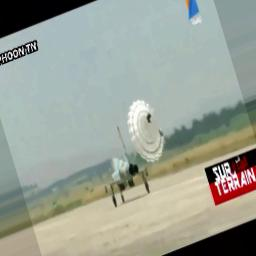Airplane: (101, 126, 153, 208)
